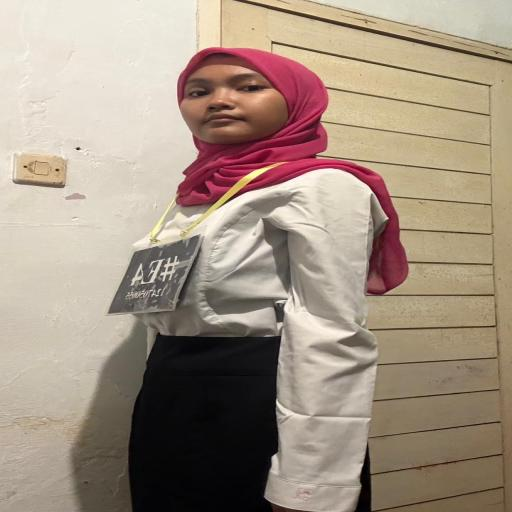kemeja_benar: (135, 172, 389, 342)
kerudung_benar: (158, 38, 360, 181)
nametag_ada: (103, 192, 216, 318)
rok_benar: (131, 336, 380, 512)
